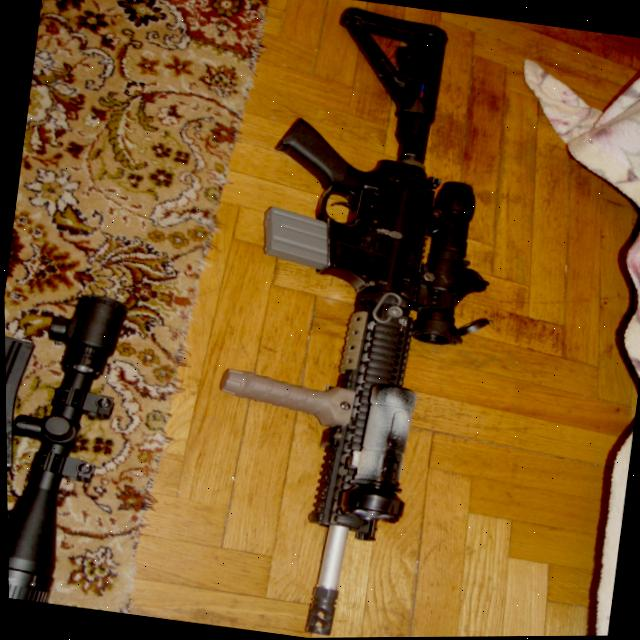firearm: (186, 0, 535, 639)
